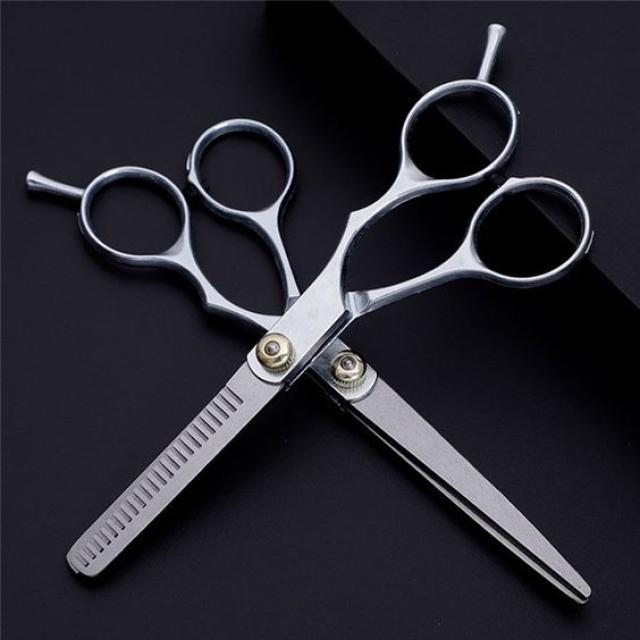scissor: (31, 22, 597, 612)
